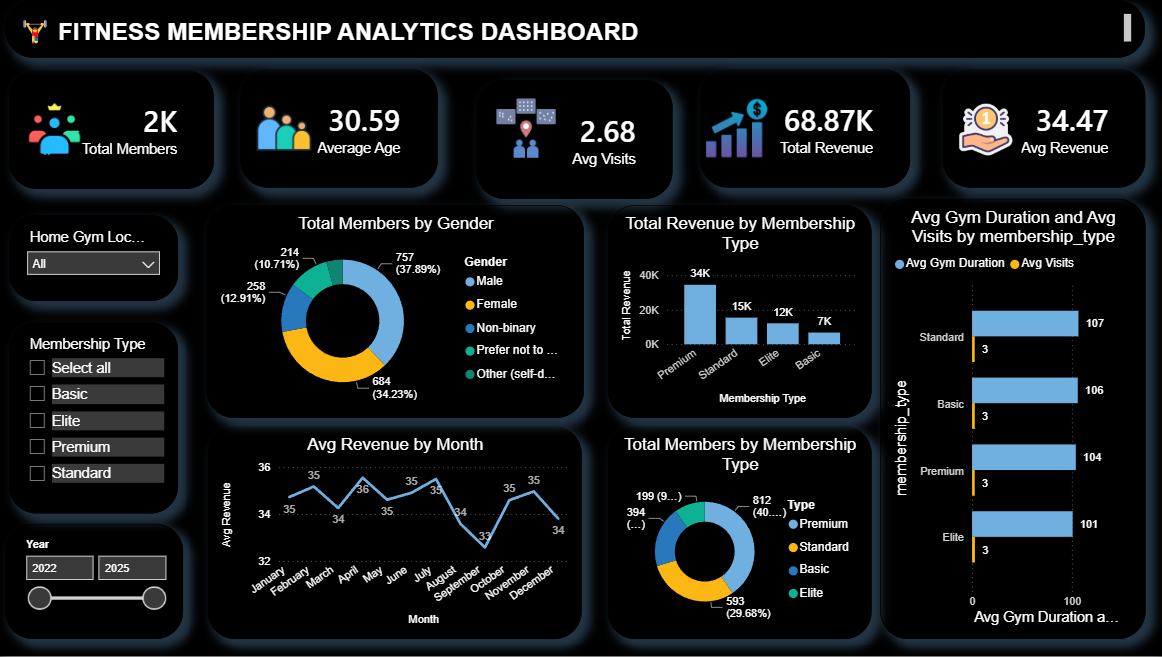

What the dashboard file says about the page in this screenshot:
{"tool":"powerbi","page":{"name":"Page 1","canvas":[1280,720],"ordinal":0},"visuals":[{"type":"cardVisual","fields":{"Data":["Table 1.Total Members"]},"box":[11,76.8,225,130.4],"z":0},{"type":"cardVisual","fields":{"Data":["Table 1.Total Revenue"]},"box":[769.8,75.5,230.5,130.4],"z":1000},{"type":"cardVisual","fields":{"Data":["Table 1.Avg Revenue"]},"box":[1036,75.5,222.3,130.4],"z":2000},{"type":"cardVisual","fields":{"Data":["Table 1.Average Age"]},"box":[264.8,75.5,216.8,130.4],"z":3000},{"type":"cardVisual","fields":{"Data":["Table 1.Avg Visits"]},"box":[524.2,87.8,215.4,130.4],"z":4000},{"type":"slicer","title":"Membership Type","fields":{"Values":["Fitness_Membership_Analytics_Dataset.membership_type"]},"box":[11,354,185.2,209.9],"z":5000},{"type":"slicer","fields":{"Values":["Fitness_Membership_Analytics_Dataset.home_gym_location"]},"box":[11,236,185.2,94.7],"z":6000},{"type":"slicer","fields":{"Values":["Calendar.Year"]},"box":[6.9,575,194.9,126.2],"z":7000},{"type":"lineChart","fields":{"Category":["Calendar.Month"],"Y":["Table 1.Avg Revenue"]},"box":[229.2,467.9,410.3,233.3],"z":8000},{"type":"donutChart","title":"Total Members by Membership Type","fields":{"Category":["Fitness_Membership_Analytics_Dataset.membership_type"],"Y":["Table 1.Total Members"]},"box":[668.3,467.9,289.5,233.3],"z":9000},{"type":"donutChart","fields":{"Category":["Fitness_Membership_Analytics_Dataset.self_identified_gender"],"Y":["Table 1.Total Members"]},"box":[227.8,225,414.4,233.3],"z":10000},{"type":"clusteredColumnChart","fields":{"Category":["Fitness_Membership_Analytics_Dataset.membership_type"],"Y":["Table 1.Total Revenue"]},"box":[668.3,225,289.5,233.3],"z":11000},{"type":"clusteredBarChart","fields":{"Category":["Fitness_Membership_Analytics_Dataset.membership_type"],"Y":["Table 1.Avg Gym Duration","Table 1.Avg Visits"]},"box":[967.4,218.2,290.9,483],"z":12000},{"type":"image","box":[17.8,107,86.4,67.2],"z":13000},{"type":"image","box":[264.8,107,96.1,67.2],"z":14000},{"type":"image","box":[524.2,107,108.4,67.2],"z":15000},{"type":"image","box":[1036,107,94.7,67.2],"z":16000},{"type":"image","box":[769.8,107,79.6,67.2],"z":17000},{"type":"textbox","box":[6.9,0,1251.5,63.1],"z":18000}]}

Visuals, with their boxes in screenshot pixels (x1, y1, x2, y2), scaled from the page's 1280x720 canvas onto the 1162x657 screenshot:
cardVisual - Table 1.Total Members: bbox=[10, 70, 214, 189]
cardVisual - Table 1.Total Revenue: bbox=[699, 69, 908, 188]
cardVisual - Table 1.Avg Revenue: bbox=[940, 69, 1142, 188]
cardVisual - Table 1.Average Age: bbox=[240, 69, 437, 188]
cardVisual - Table 1.Avg Visits: bbox=[476, 80, 671, 199]
"Membership Type" slicer: bbox=[10, 323, 178, 515]
slicer - Fitness_Membership_Analytics_Dataset.home_gym_location: bbox=[10, 215, 178, 302]
slicer - Calendar.Year: bbox=[6, 525, 183, 640]
lineChart - Calendar.Month x Table 1.Avg Revenue: bbox=[208, 427, 581, 640]
"Total Members by Membership Type" donutChart: bbox=[607, 427, 870, 640]
donutChart - Fitness_Membership_Analytics_Dataset.self_identified_gender x Table 1.Total Members: bbox=[207, 205, 583, 418]
clusteredColumnChart - Fitness_Membership_Analytics_Dataset.membership_type x Table 1.Total Revenue: bbox=[607, 205, 870, 418]
clusteredBarChart - Fitness_Membership_Analytics_Dataset.membership_type x Table 1.Avg Gym Duration: bbox=[878, 199, 1142, 640]
image: bbox=[16, 98, 95, 159]
image: bbox=[240, 98, 328, 159]
image: bbox=[476, 98, 574, 159]
image: bbox=[940, 98, 1026, 159]
image: bbox=[699, 98, 771, 159]
textbox: bbox=[6, 0, 1142, 58]
